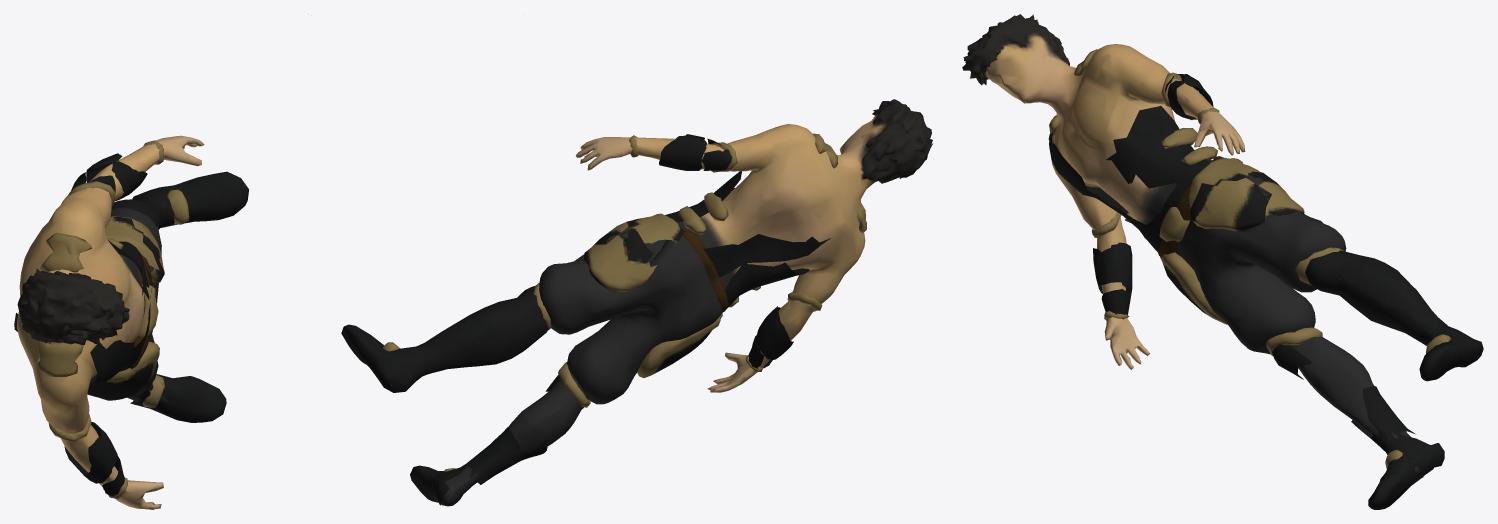
Rendered from realtime.fbx.
The picture shows the model from 3 angles, left to right: view 1: azimuth 30°, elevation 25°; view 2: azimuth 150°, elevation 25°; view 3: azimuth 270°, elevation 25°; orthographic projection. The views are drawn at different scales.
Visible parts, largest first — view 1: Head, Layer_6 (×5), Layer_3 (×2), Layer_9, Layer_2, Layer_1, Layer_7, Layer_5, Layer_4; view 2: Head, Layer_6 (×5), Layer_7, Layer_3 (×2), Layer_9, Layer_1, Layer_4, Layer_2; view 3: Head, Layer_6 (×5), Layer_7, Layer_3 (×2), Layer_1, Layer_9, Layer_2, Layer_5, Layer_4.
Part boxes in pixels (box(x1,y1,x2,y2)): Head: box(17, 135, 204, 509); Layer_6 (×5): box(14, 153, 248, 496); Layer_3 (×2): box(87, 216, 164, 399); Layer_9: box(35, 232, 123, 376); Layer_2: box(48, 140, 163, 499); Layer_1: box(142, 189, 189, 407); Layer_7: box(110, 14, 308, 395); Layer_5: box(138, 284, 158, 337); Layer_4: box(130, 254, 152, 368); Head: box(391, 99, 933, 506); Layer_6 (×5): box(341, 134, 830, 506); Layer_7: box(539, 235, 722, 404); Layer_3 (×2): box(584, 213, 722, 377); Layer_9: box(678, 133, 866, 307); Layer_1: box(383, 282, 590, 471); Layer_4: box(682, 230, 728, 312); Layer_2: box(629, 135, 822, 371); Head: box(962, 14, 1435, 495); Layer_6 (×5): box(1049, 74, 1483, 509); Layer_7: box(1179, 79, 1346, 354); Layer_3 (×2): box(1160, 157, 1304, 324); Layer_1: box(1266, 247, 1450, 468); Layer_9: box(1048, 49, 1217, 238); Layer_2: box(1092, 72, 1219, 320); Layer_5: box(1159, 207, 1189, 241); Layer_4: box(1157, 156, 1222, 257).
Size of the model in its own units: 0.4735 by 0.5342 by 0.484.
